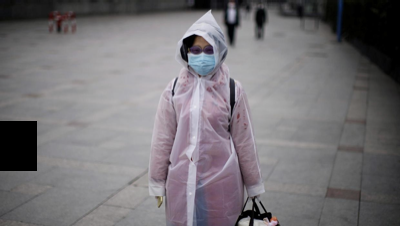with_mask: (186, 41, 217, 77)
